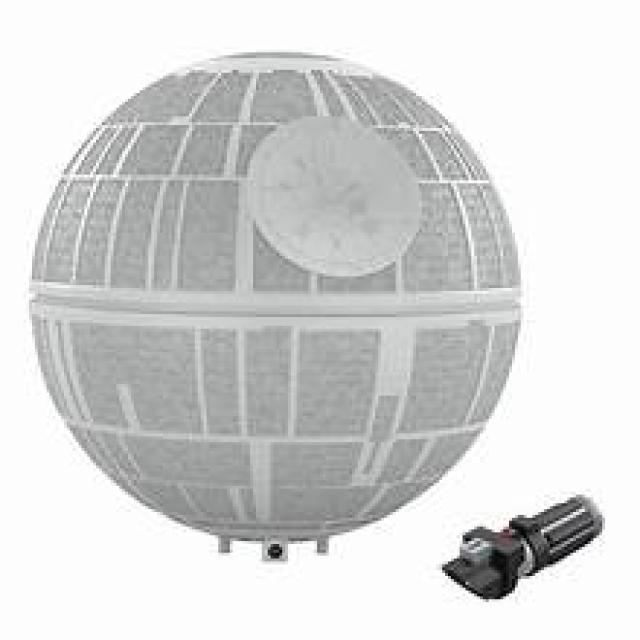deathStar: (22, 47, 522, 554)
